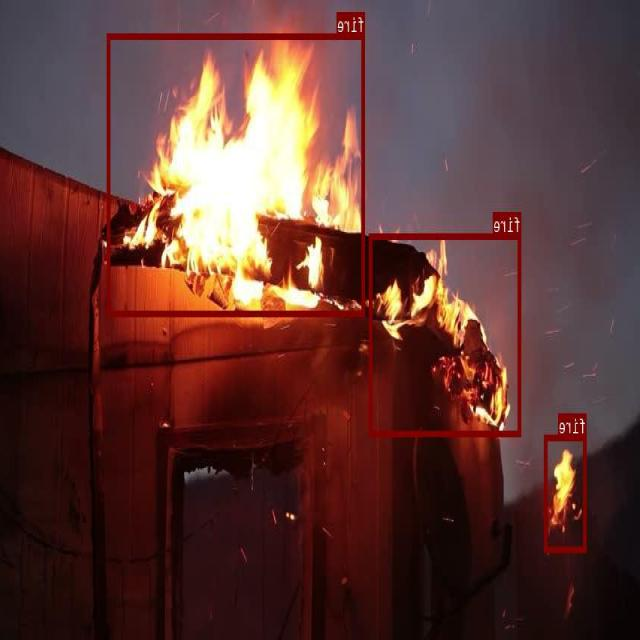fire: (108, 33, 366, 315), (370, 233, 522, 435), (545, 434, 587, 551)
